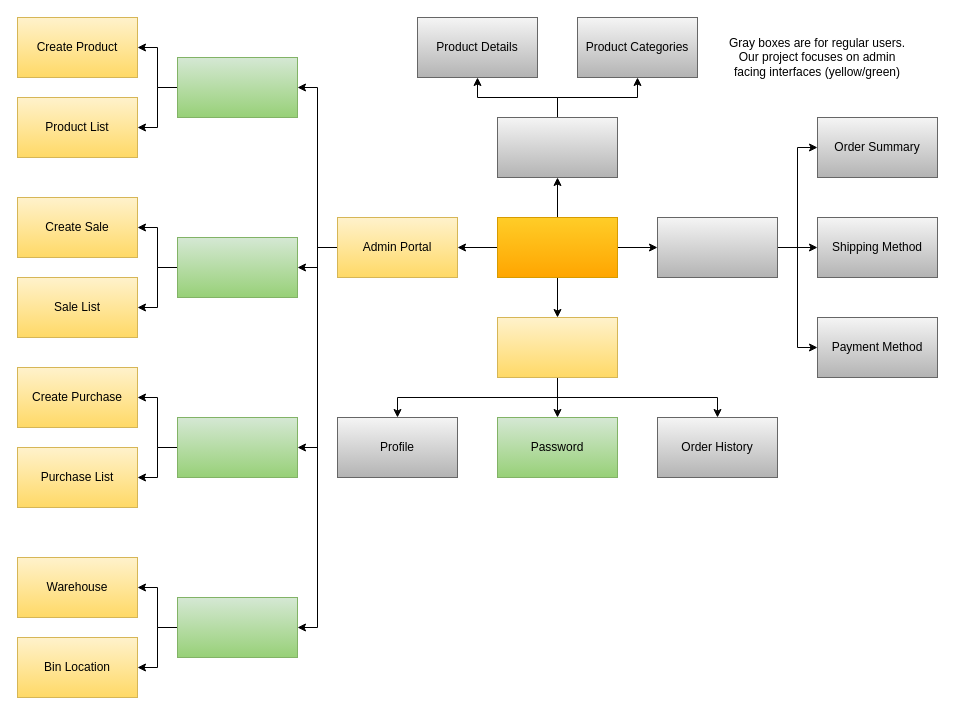
Image size: 955x715. Some labels were removed from this diagram. Each missing label, with the centre of its shape:
Account: the point at 557,347
Cart: the point at 717,247
Home Page: the point at 557,247
Inventory Settings: the point at 237,627
Products: the point at 237,87
Products Catalog: the point at 557,147
Purchases: the point at 237,447
Sales: the point at 237,267
